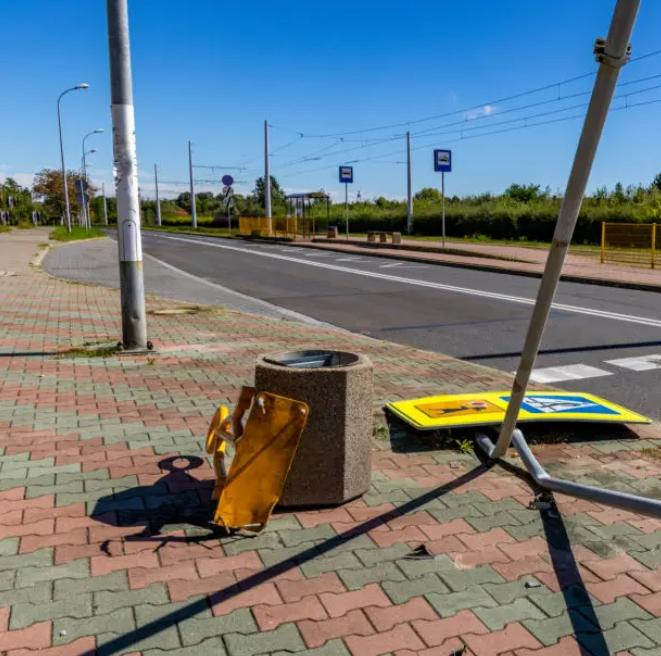obstructed_road_sign: (488, 391, 651, 422)
